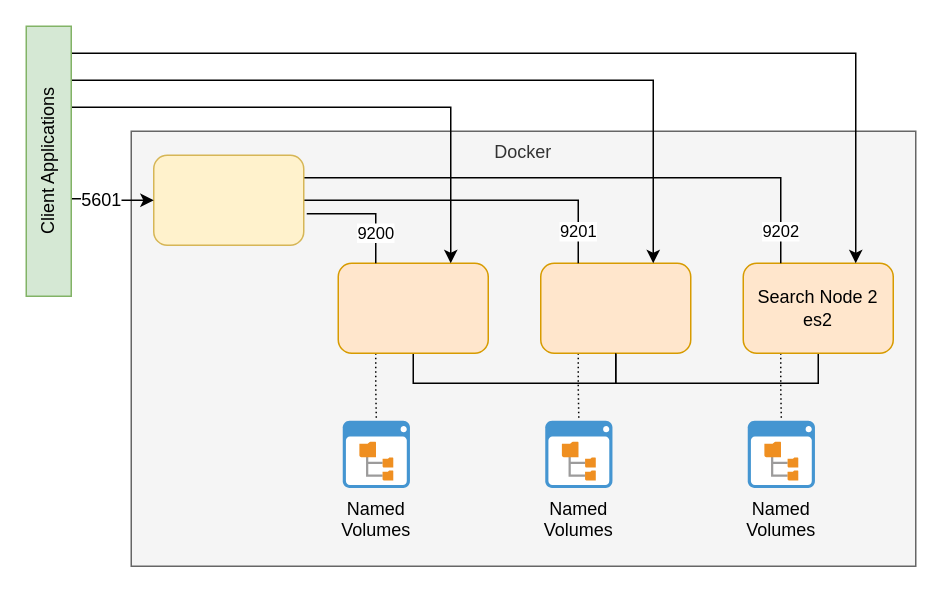
The diagram is 942 pixels wide and 593 high, and some of its shapes have lost their labels. Here are the shapes that lost their labels. From the top down, the centre of each, then its label:
point (228, 199): KIbana kib01
point (412, 307): Search Node 0 es0
point (615, 307): Search Node 1 es1
